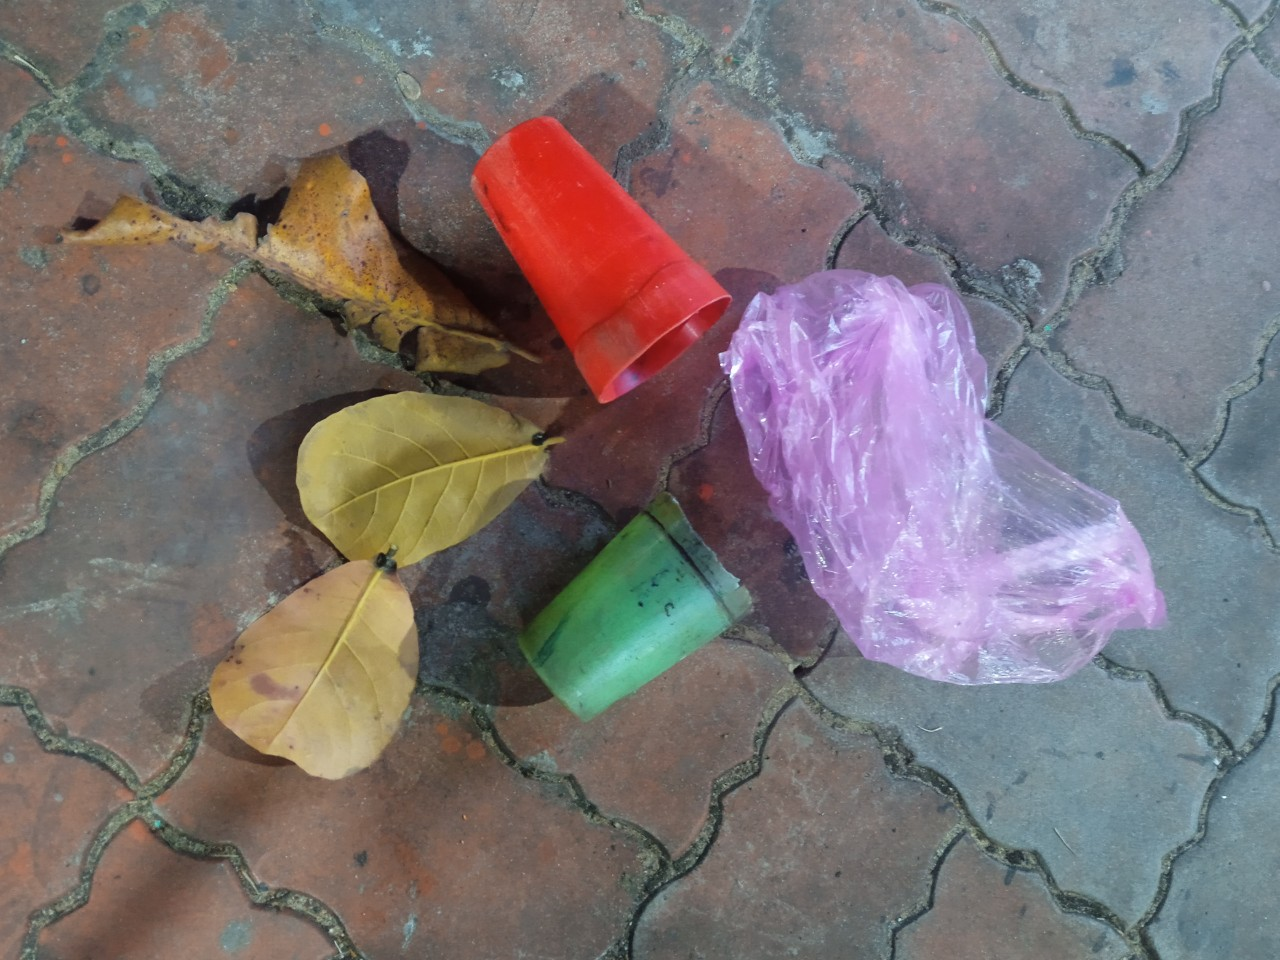plastic: (450, 109, 737, 400), (485, 485, 758, 745)
plastic bag: (739, 260, 1185, 697)
wood: (58, 132, 524, 384), (206, 539, 419, 804), (262, 384, 572, 561)
